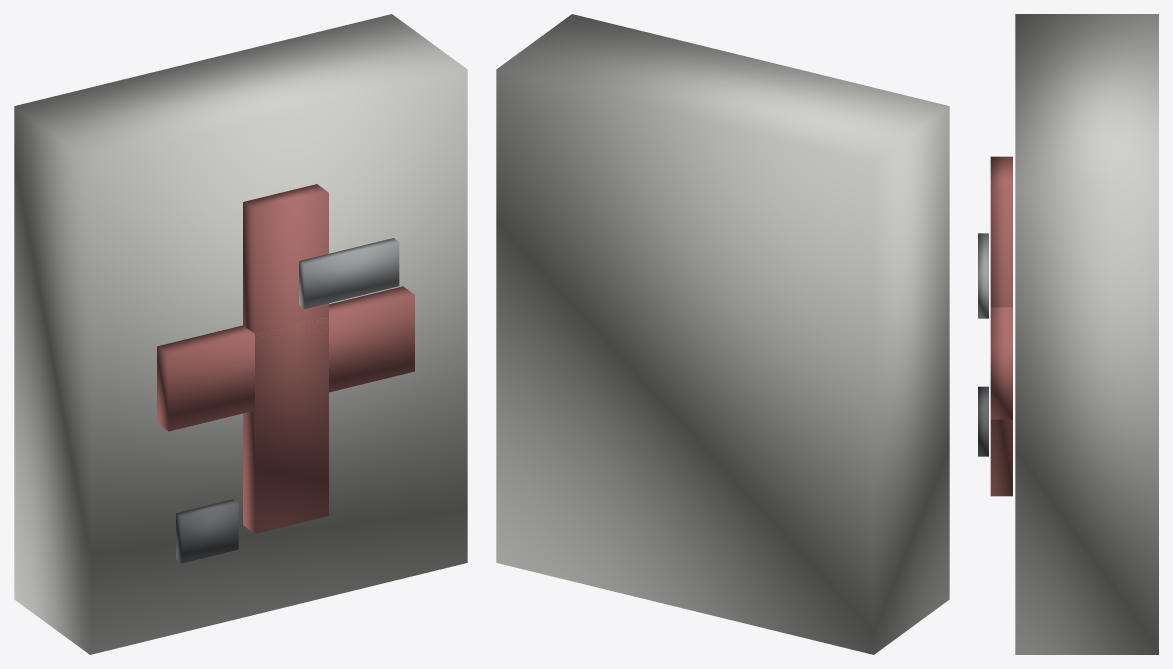
File: first_aid_wall_cabinet__weathered.glb
The picture shows the model from 3 angles, left to right: view 1: azimuth 30°, elevation 25°; view 2: azimuth 150°, elevation 25°; view 3: azimuth 270°, elevation 25°; orthographic projection. The views are drawn at different scales.
Visible parts, largest first — view 1: world; view 2: world; view 3: world.
Boxes of the visible parts, bbox=[...] form: world: bbox=[14, 14, 467, 654]; world: bbox=[496, 14, 949, 654]; world: bbox=[978, 14, 1158, 654].
Bounding box in the file's own units: 0.46 × 0.5742 × 0.2015.
